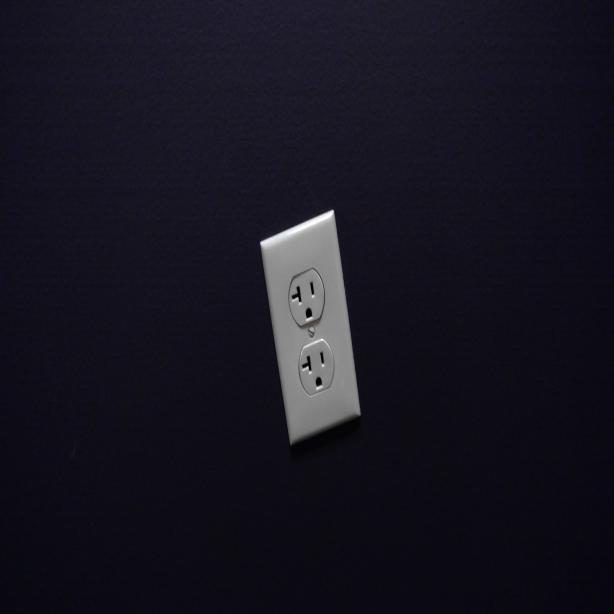typeb: (285, 262, 323, 326), (298, 346, 334, 400)
